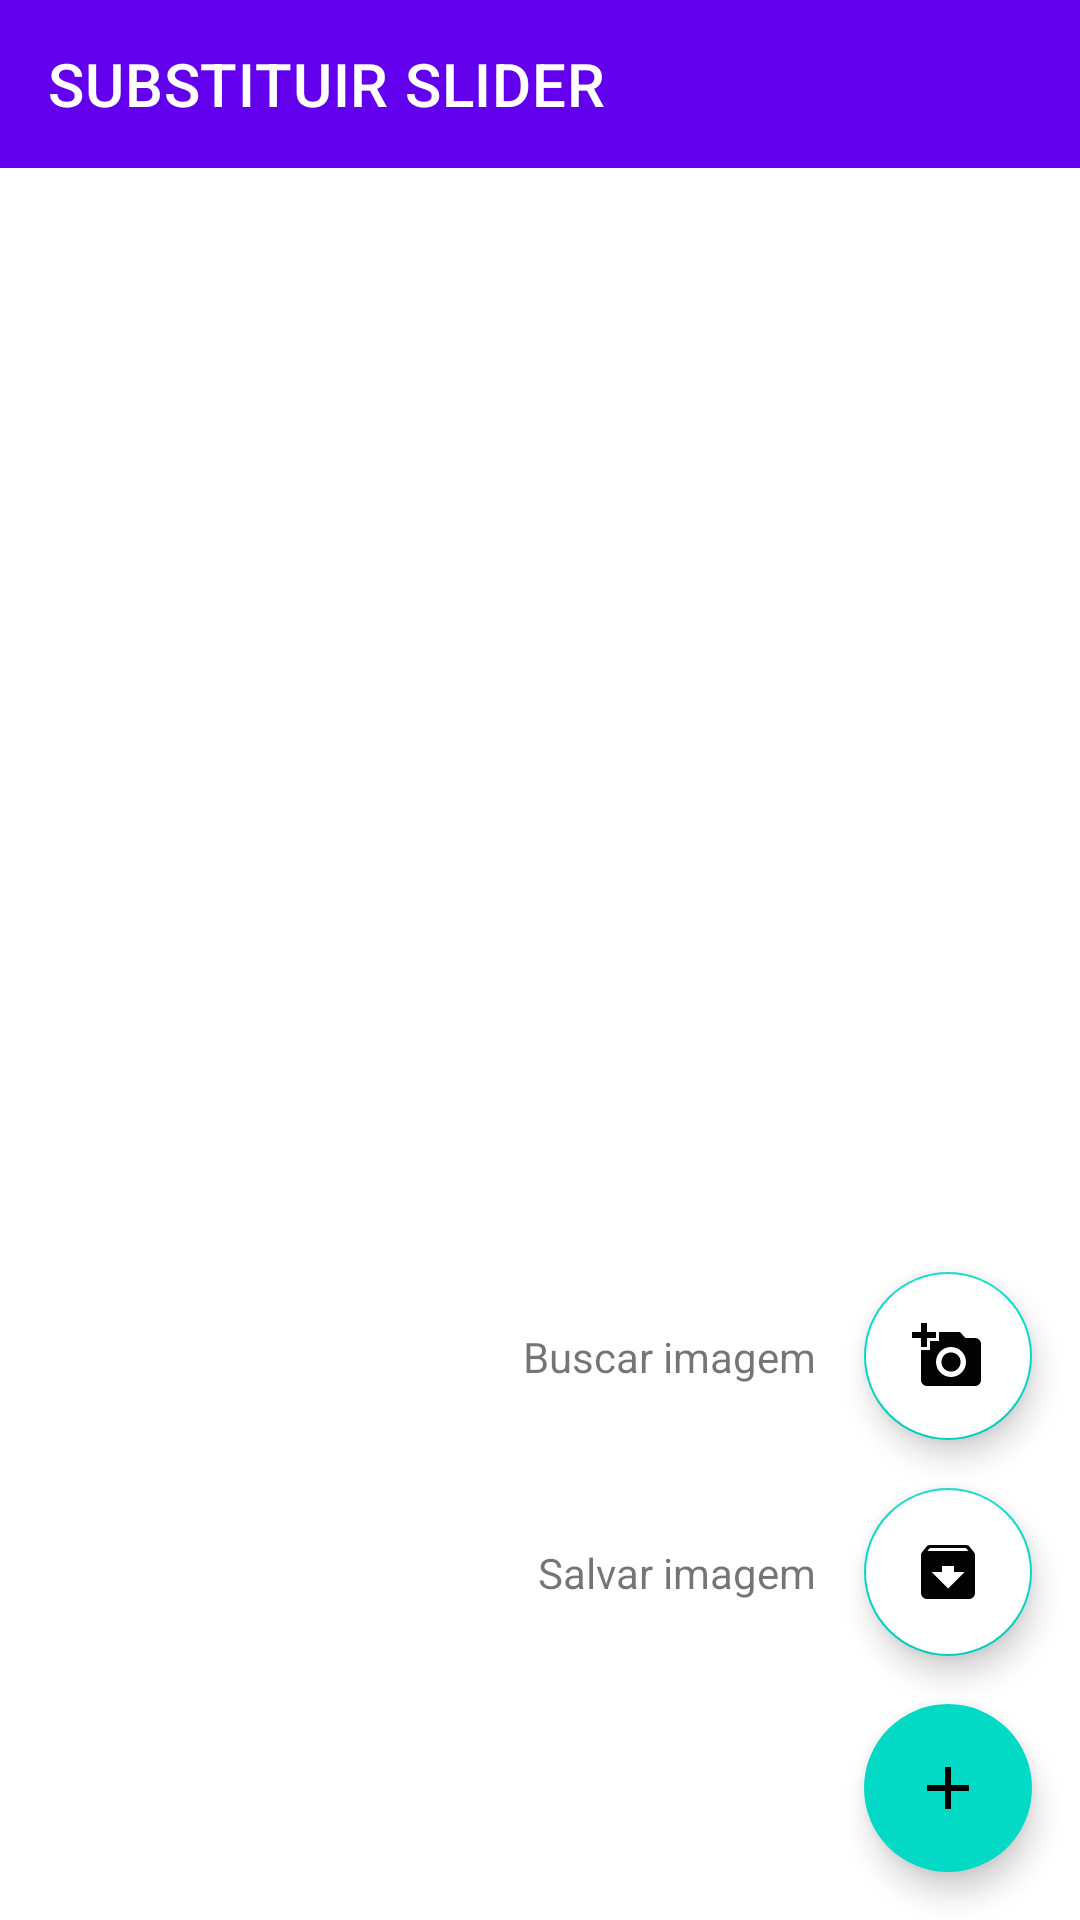

Point at icon controls on the screen. Image size 1080x1920, points as point (x, y).
add: point (948, 1788)
archive: point (948, 1572)
